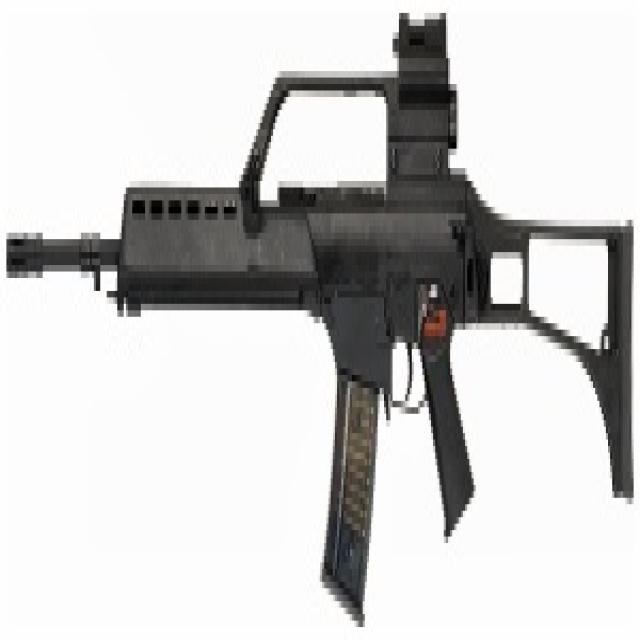rifle: (5, 10, 640, 640)
